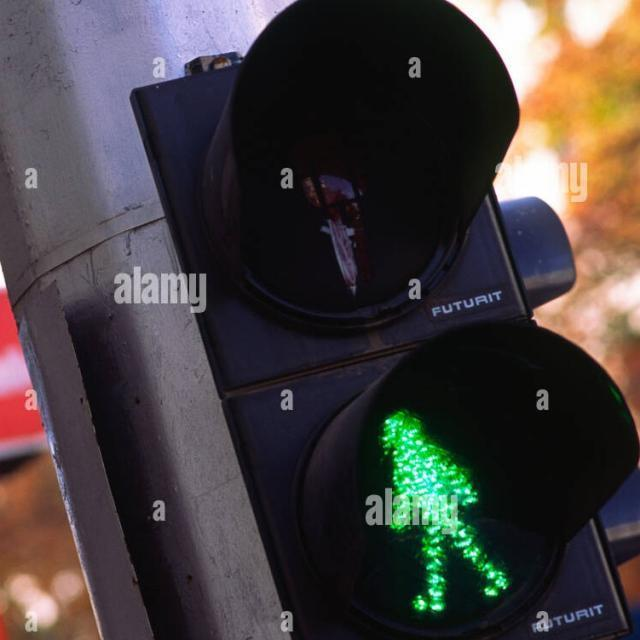geen-crossing: (342, 390, 523, 618)
